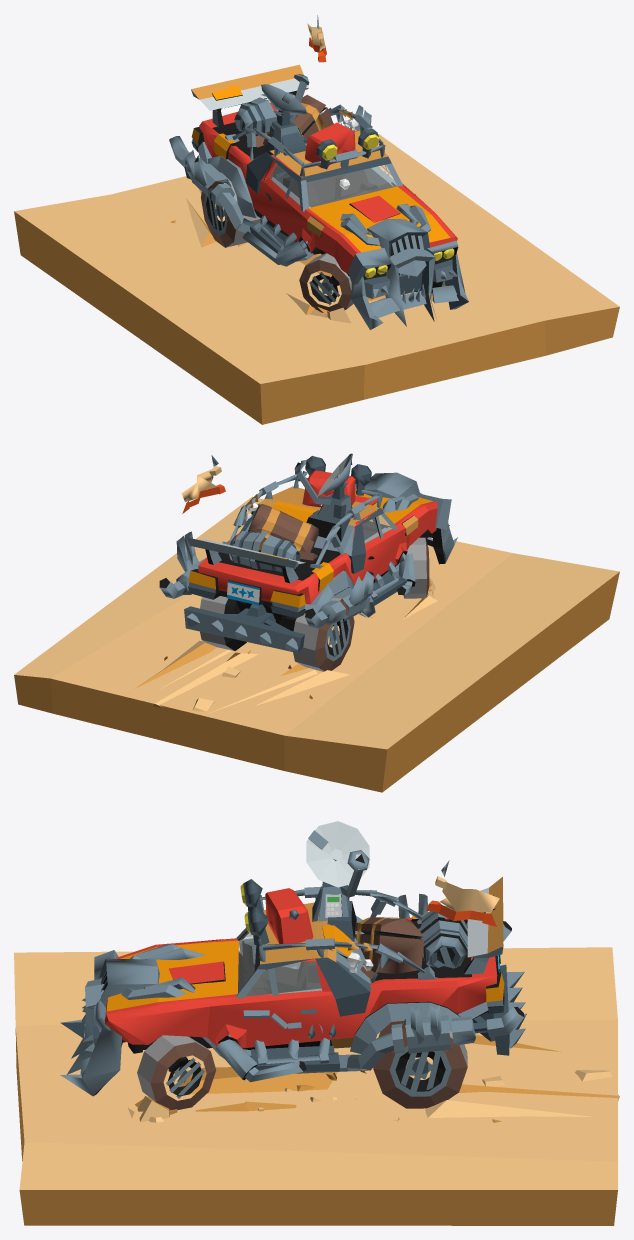
Rendered from pig.glb.
3 views of the same model, one above another, from view 1: azimuth 30°, elevation 25°; view 2: azimuth 150°, elevation 25°; view 3: azimuth 270°, elevation 25° (orthographic). The views are drawn at different scales.
Parts seen in each view (by area): view 1: group478977601, group209116886, group2120335766, group1956738219, group1645430239, group377548882, group951975016; view 2: group478977601, group209116886, group2120335766, group951975016, group1956738219, group1176625639, group1645430239; view 3: group478977601, group209116886, group2120335766, group1956738219, group1645430239, group951975016, group707405803.
Part boxes in pixels (<box>): group478977601: <box>14,23,619,383</box>; group209116886: <box>14,64,619,424</box>; group2120335766: <box>169,15,468,329</box>; group1956738219: <box>201,94,351,312</box>; group1645430239: <box>200,78,308,110</box>; group377548882: <box>322,134,454,278</box>; group951975016: <box>220,172,445,309</box>; group478977601: <box>14,466,619,749</box>; group209116886: <box>14,453,619,792</box>; group2120335766: <box>160,454,457,661</box>; group951975016: <box>200,537,426,671</box>; group1956738219: <box>248,504,429,671</box>; group1176625639: <box>227,503,259,605</box>; group1645430239: <box>198,453,352,563</box>; group478977601: <box>14,876,619,1189</box>; group209116886: <box>15,838,619,1225</box>; group2120335766: <box>60,830,526,1098</box>; group1956738219: <box>150,917,467,1110</box>; group1645430239: <box>306,821,488,957</box>; group951975016: <box>137,1025,467,1101</box>; group707405803: <box>426,900,496,926</box>.
Bounding box in the file's own units: 4.52 × 2.71 × 5.11.
